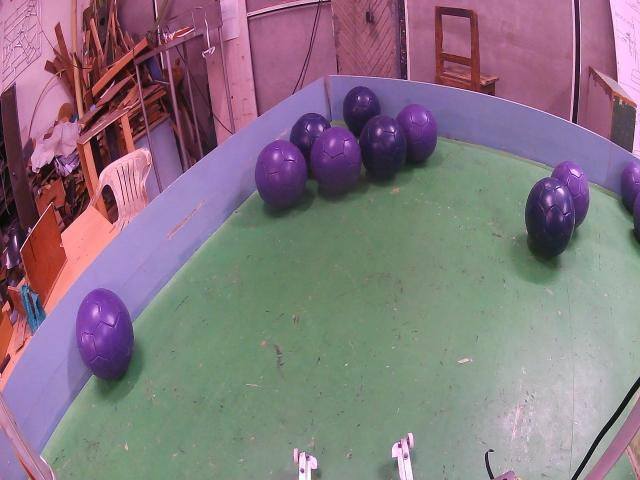jambhalya: (76, 288, 134, 380), (255, 140, 308, 208), (310, 127, 361, 193), (552, 160, 590, 226), (396, 103, 438, 162), (621, 162, 640, 212)
kaalyya: (525, 177, 575, 257), (360, 115, 408, 178), (290, 113, 330, 167), (342, 87, 380, 137)
